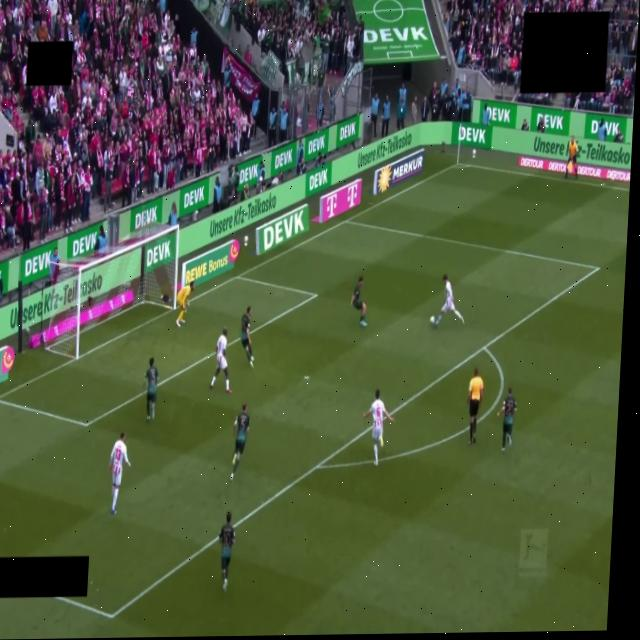ball: (429, 316, 435, 325)
player: (363, 389, 393, 465), (109, 433, 130, 514), (433, 274, 464, 327), (231, 404, 249, 480), (211, 327, 231, 393), (219, 512, 235, 591), (498, 388, 517, 451), (144, 357, 158, 420), (176, 282, 194, 327), (351, 276, 367, 326), (241, 307, 253, 368)
referee: (468, 369, 483, 443)
